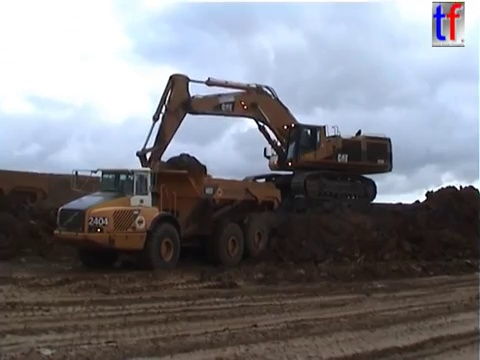excavator: (134, 72, 396, 207)
truck: (49, 159, 285, 273), (1, 165, 161, 265)
